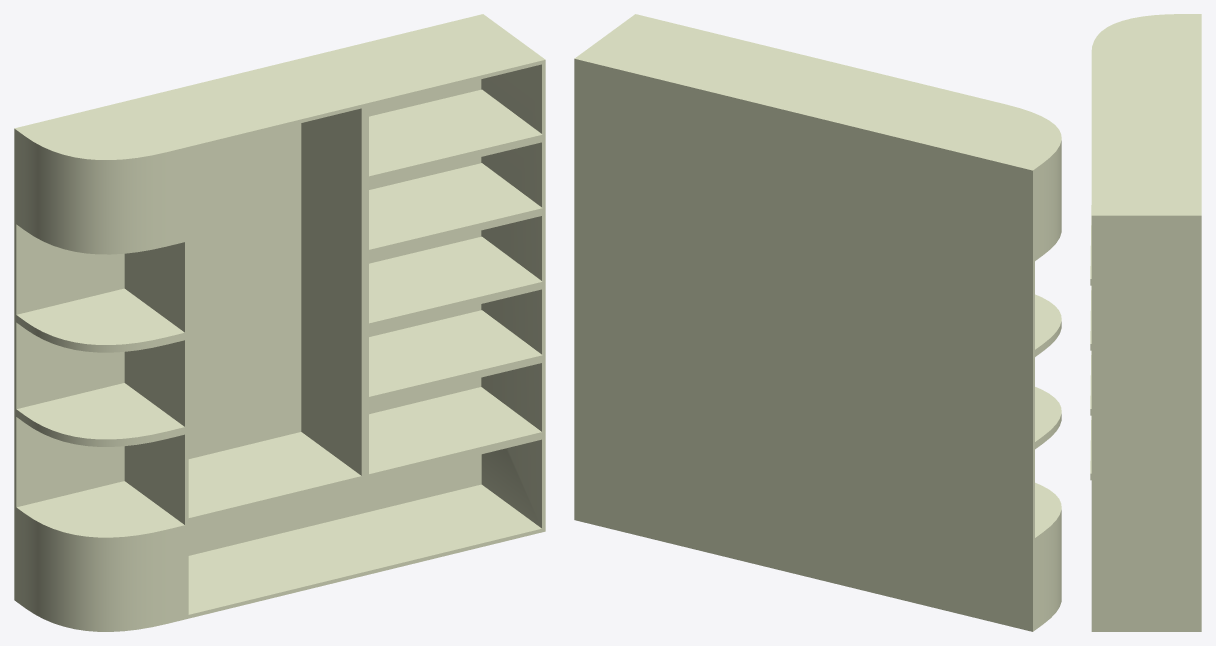
Rendered from work-02.glb.
3 views of the same model, side by side, from view 1: azimuth 30°, elevation 25°; view 2: azimuth 150°, elevation 25°; view 3: azimuth 270°, elevation 25° (orthographic). The views are drawn at different scales.
Parts seen in each view (by area): view 1: Box001; view 2: Box001; view 3: Box001.
Part boxes in pixels (x1,y1,x2,y2): Box001: (14, 14, 545, 631); Box001: (574, 14, 1061, 631); Box001: (1090, 14, 1201, 631).
Bounding box in the file's own units: 2.6 × 2.5 × 0.6067.
